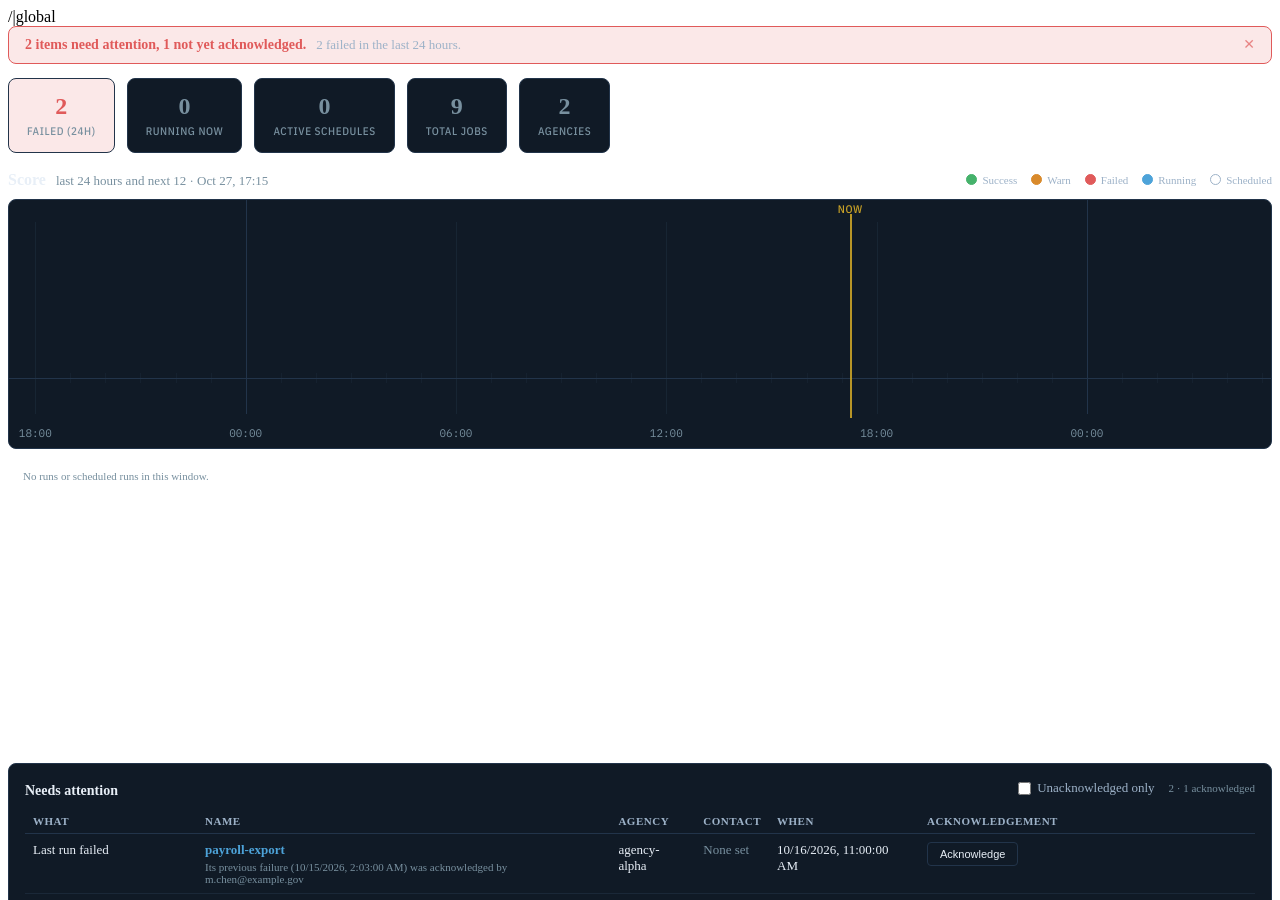
Test case: the Operations overview (2.4.4 F3) › shows an acknowledged item dimmed, with who, the latest note and the count, and can hide it (2.5.2 OP-20, OP-11)
Expected: the row with test id "attention-item" shows "Its previous failure", [205,861,294,873]
Expected: the row with test id "attention-item" shows "was acknowledged by m.chen@example.gov", [25,833,1255,893]
Click the checkbox labelled "Unacknowledged only".
click(1025, 788)  # box [1018,782,1031,795]
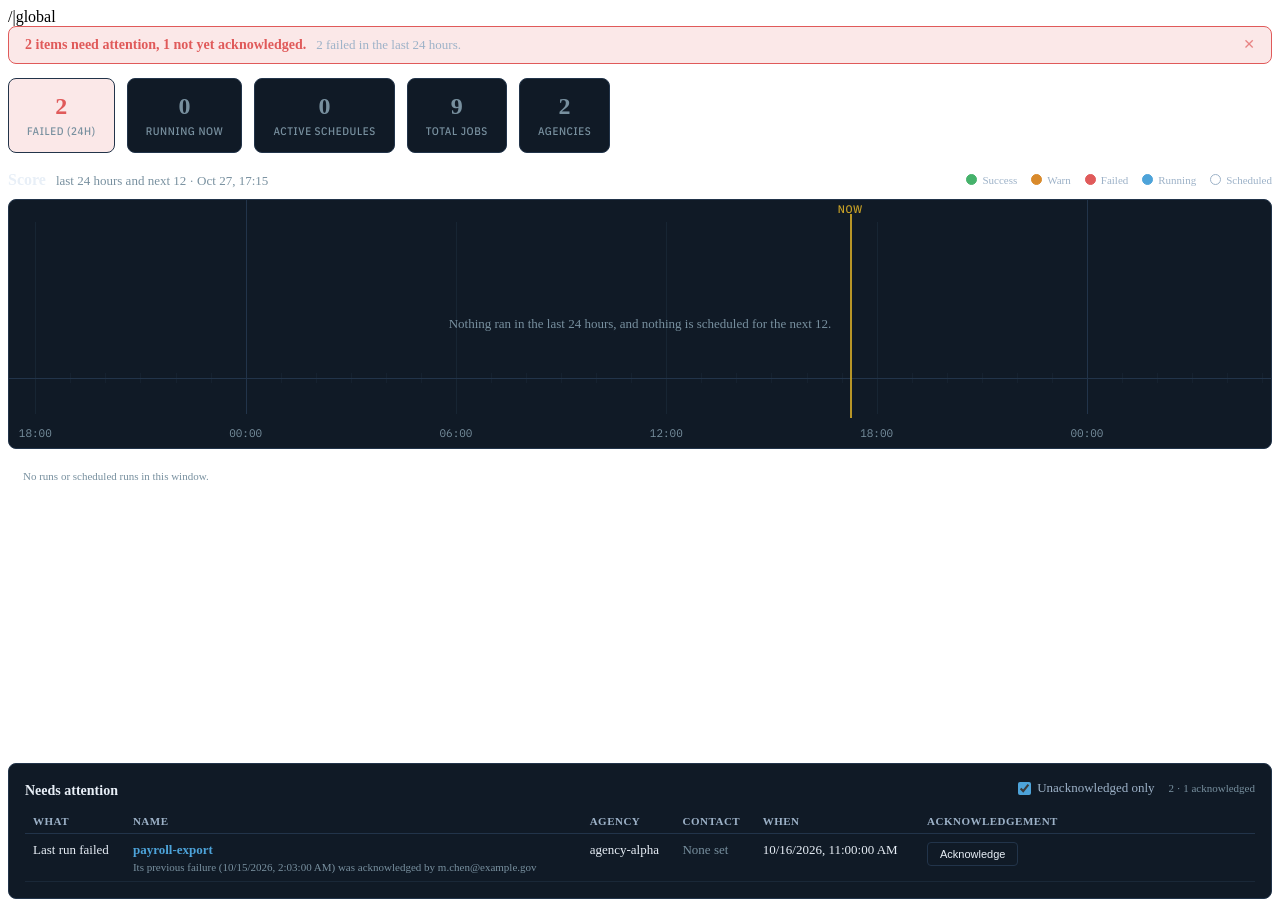
Expected: the row with test id "attention-item" shows "payroll-export", [133,842,213,857]
Result: the number of rows with test id "attention-item" is 1 at [25,833,1255,881]
